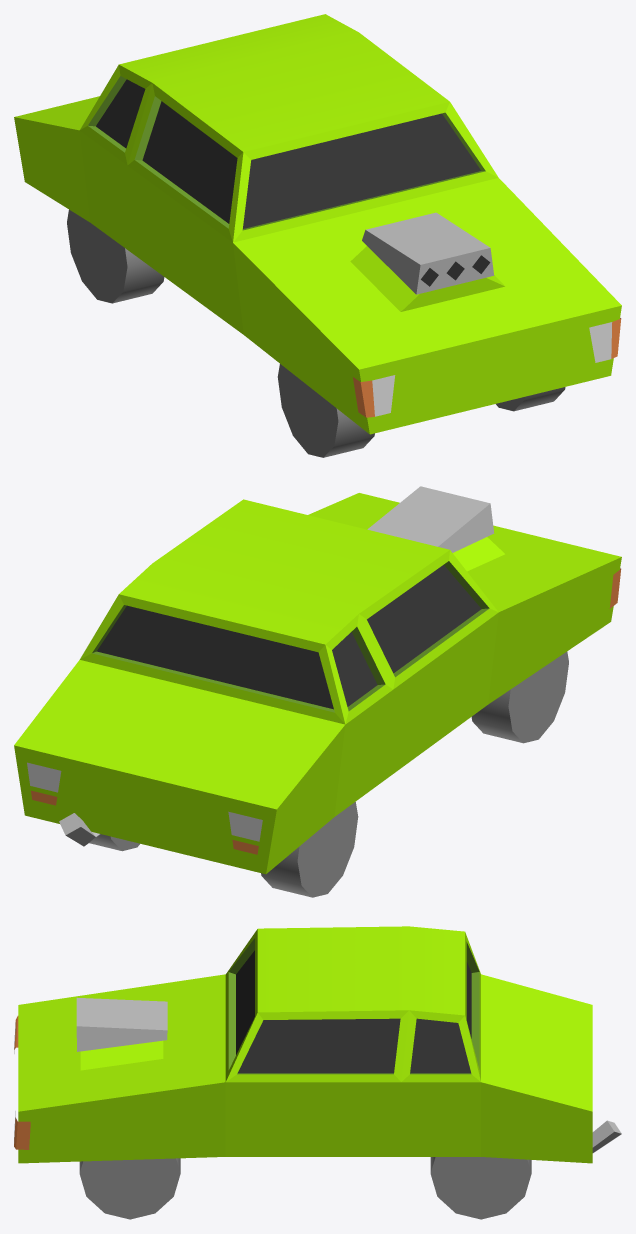
The model's file is musclecar_07.fbx.
The picture shows the model from 3 angles, top to bottom: view 1: azimuth 30°, elevation 25°; view 2: azimuth 150°, elevation 25°; view 3: azimuth 270°, elevation 25°; orthographic projection. The views are drawn at different scales.
Visible parts, largest first — view 1: musclecar_07; view 2: musclecar_07; view 3: musclecar_07.
Boxes of the visible parts, x1,y1,x2,y2 form: musclecar_07: (14,14,621,457); musclecar_07: (14,486,621,897); musclecar_07: (14,926,621,1219).
Bounding box in the file's own units: 1.6 × 1.41 × 3.81.
